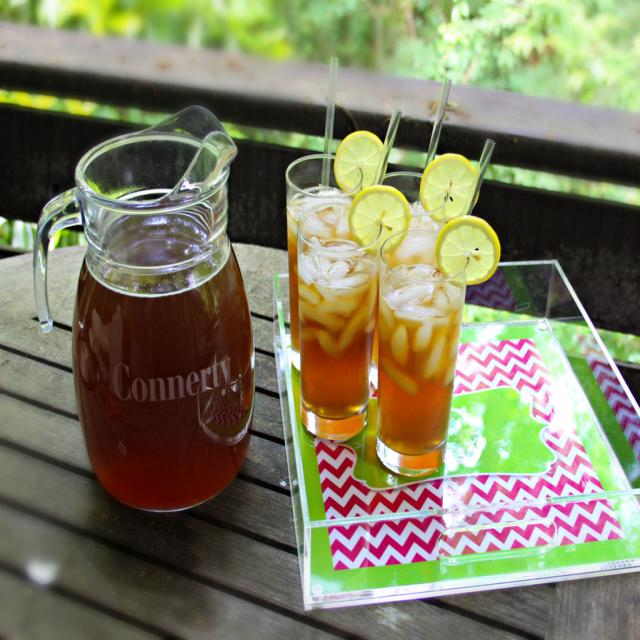Tea: (72, 201, 256, 513), (377, 262, 459, 456), (297, 239, 374, 420), (286, 183, 358, 350), (372, 201, 446, 352)
